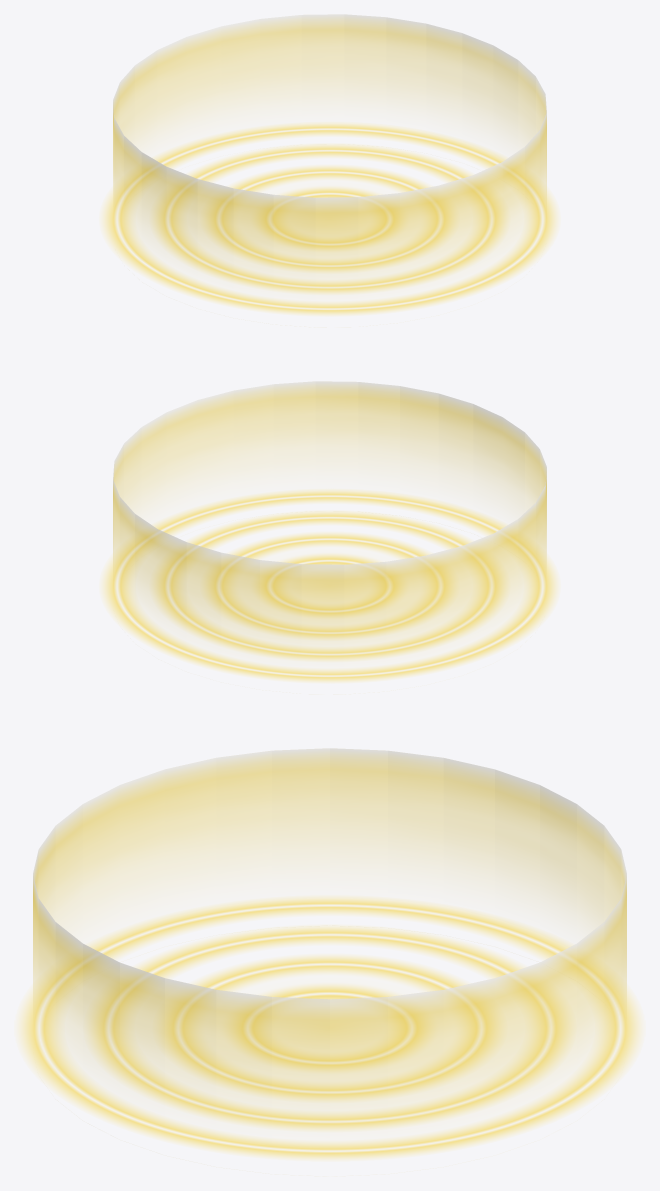
File: fx_pulse_asc.glb
The picture shows the model from 3 angles, top to bottom: view 1: azimuth 30°, elevation 25°; view 2: azimuth 150°, elevation 25°; view 3: azimuth 270°, elevation 25°; orthographic projection. The views are drawn at different scales.
Visible parts, largest first — view 1: fx_wall, fx_shock; view 2: fx_wall, fx_shock; view 3: fx_wall, fx_shock.
Boxes of the visible parts, x1,y1,x2,y2 form: fx_wall: (113, 14, 546, 275); fx_shock: (102, 123, 557, 314); fx_wall: (113, 381, 546, 645); fx_shock: (102, 490, 557, 681); fx_wall: (33, 748, 626, 1106); fx_shock: (19, 897, 640, 1159).
Size of the model in its own units: 1 by 0.31 by 1.
2 materials, 2 textured.
